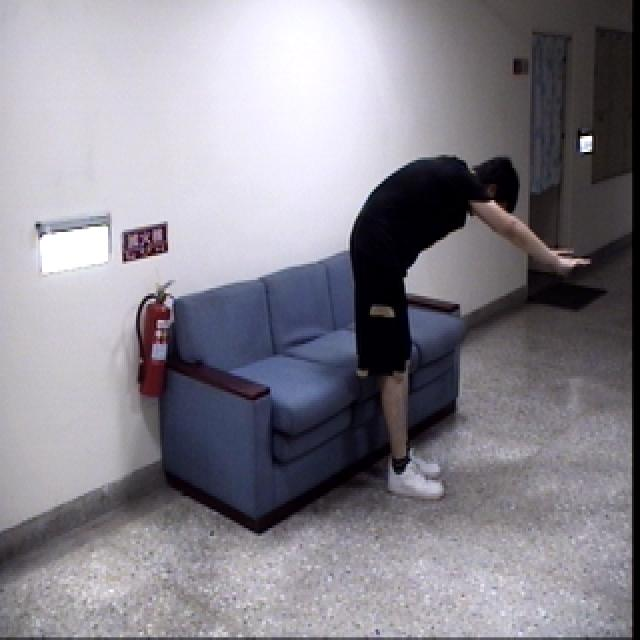bend: (342, 140, 592, 505)
